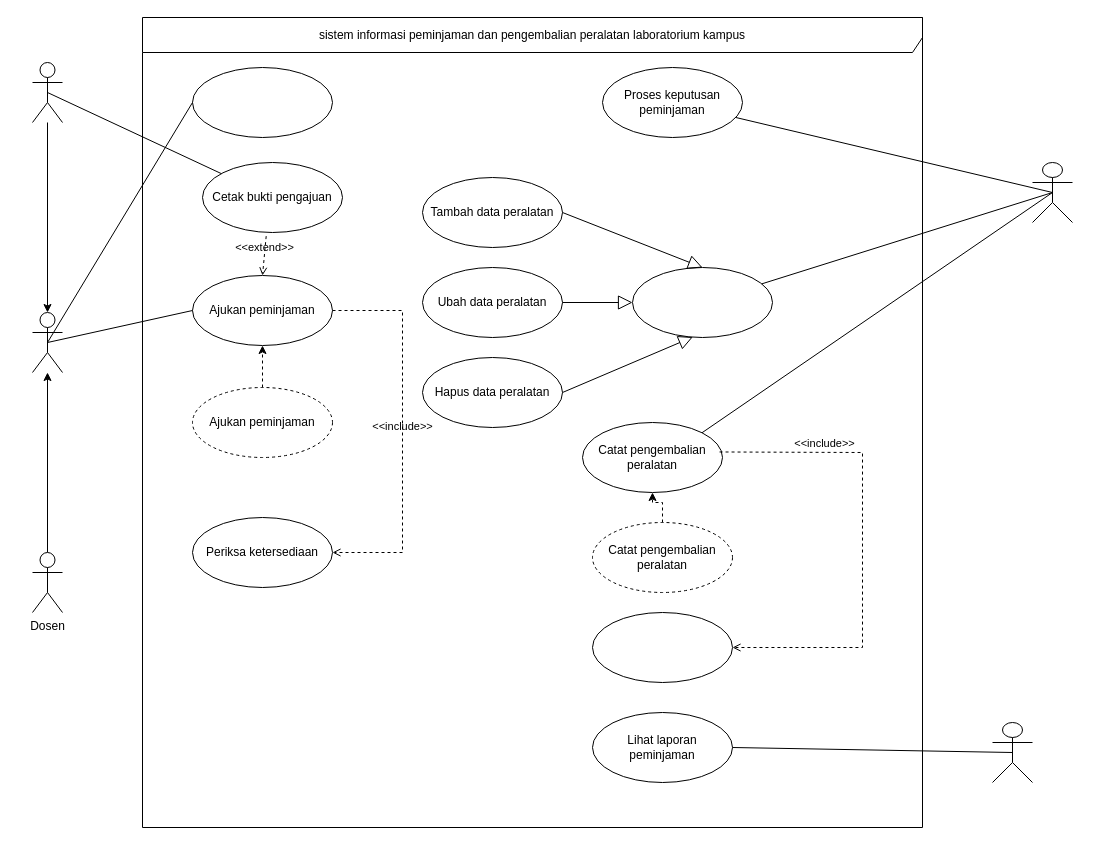
Some shapes in this 1103 by 845 pixel diagram are drawn without their labels. Here are the shapes that lost their labels. From the top down, the centre of each, then its label:
At pixel 47 92: "Mahasiswa".
At pixel 262 102: "Lihat ketersediaan".
At pixel 1052 192: "Petugas Lab".
At pixel 702 302: "Kelola data peralatan".
At pixel 47 342: "Peminjam".
At pixel 662 647: "Periksa kondisi peralatan".
At pixel 1012 752: "Kelola Lab".
